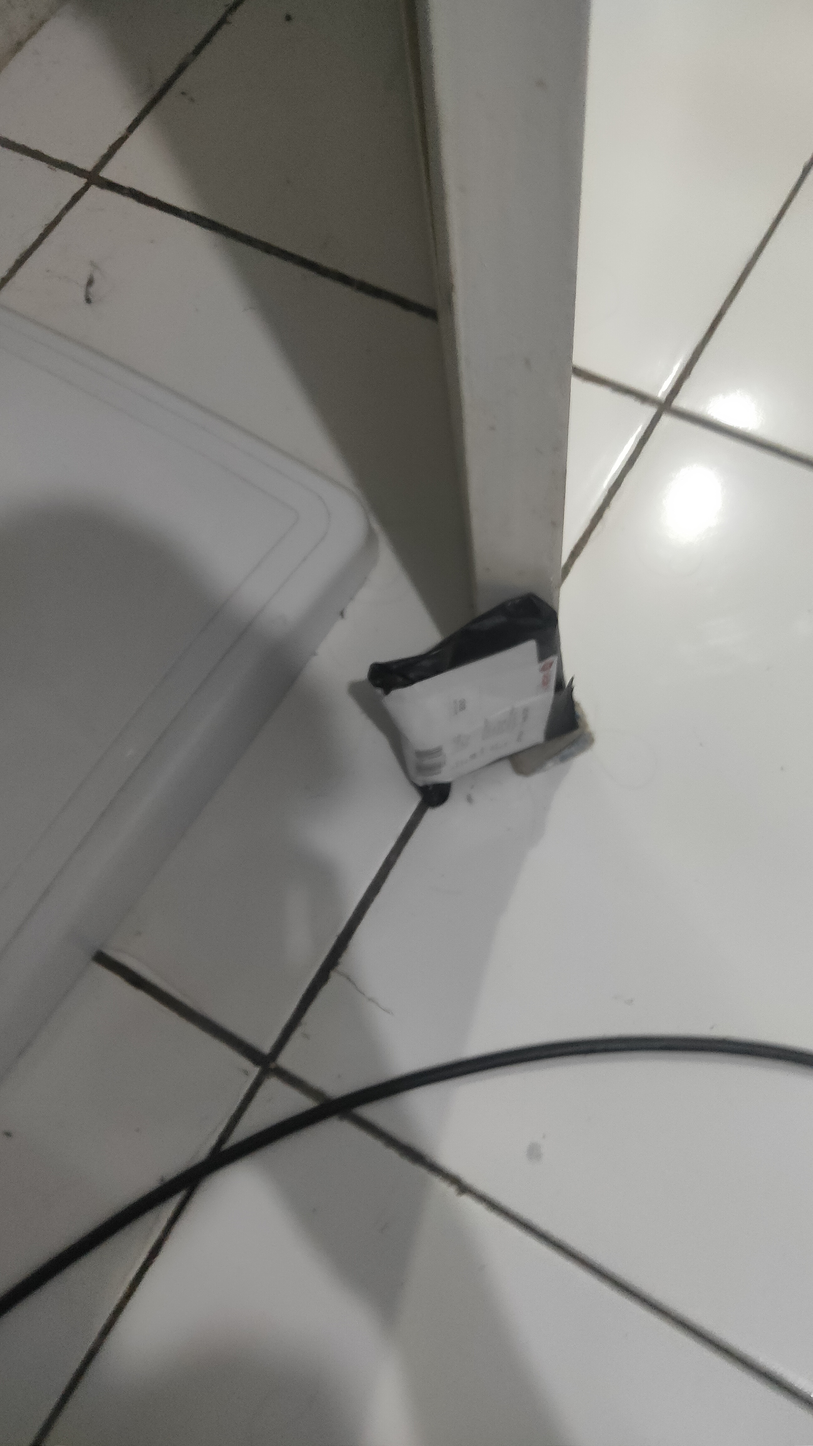undamaged: (354, 599, 591, 818)
